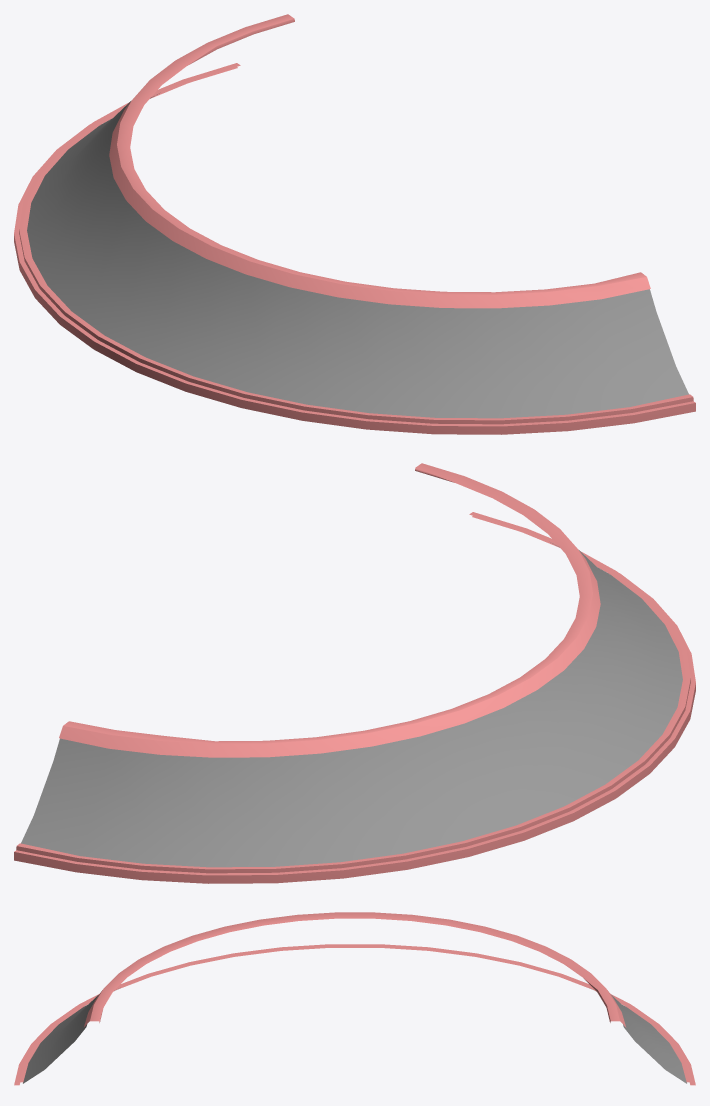
File: SM_ENV_LKNVLD_Ground_Hill_Round_L_Lod3.gltf
The picture shows the model from 3 angles, top to bottom: view 1: azimuth 30°, elevation 25°; view 2: azimuth 150°, elevation 25°; view 3: azimuth 270°, elevation 25°; orthographic projection. The views are drawn at different scales.
Parts seen in each view (by area): view 1: SM_ENV_LKNVLD_Ground_Hill_Round_L_Lod3; view 2: SM_ENV_LKNVLD_Ground_Hill_Round_L_Lod3; view 3: SM_ENV_LKNVLD_Ground_Hill_Round_L_Lod3.
Boxes of the visible parts, x1,y1,x2,y2 form: SM_ENV_LKNVLD_Ground_Hill_Round_L_Lod3: (14,14,695,434); SM_ENV_LKNVLD_Ground_Hill_Round_L_Lod3: (14,463,695,883); SM_ENV_LKNVLD_Ground_Hill_Round_L_Lod3: (14,912,695,1085).
Size of the model in its own units: 26.61 by 6.27 by 54.44.
